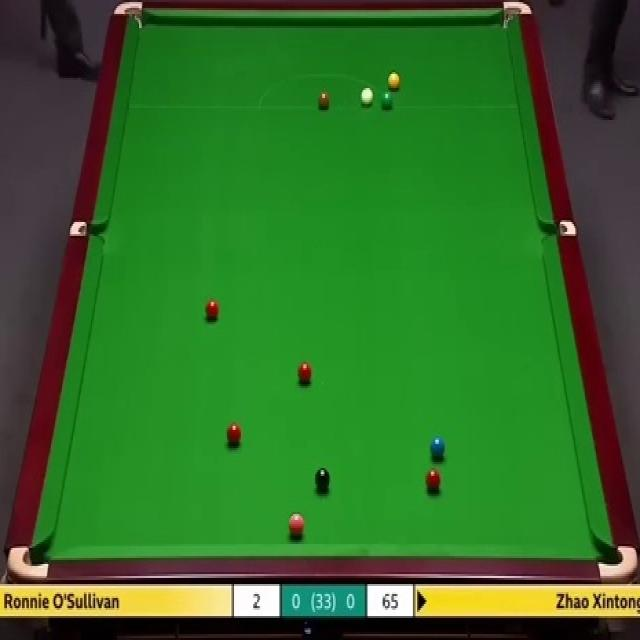pocket: (596, 543, 640, 582), (7, 544, 50, 582), (112, 0, 145, 34), (499, 0, 530, 32), (539, 218, 576, 240), (67, 220, 105, 235)
